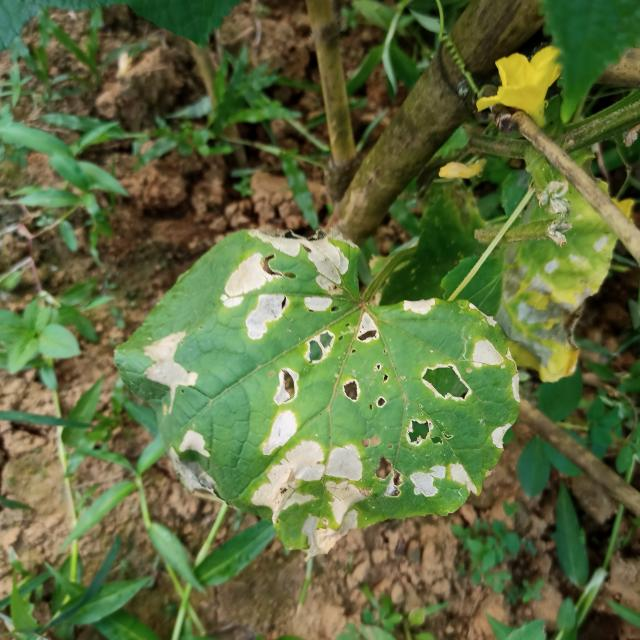disease_cucumber: (138, 256, 519, 547)
